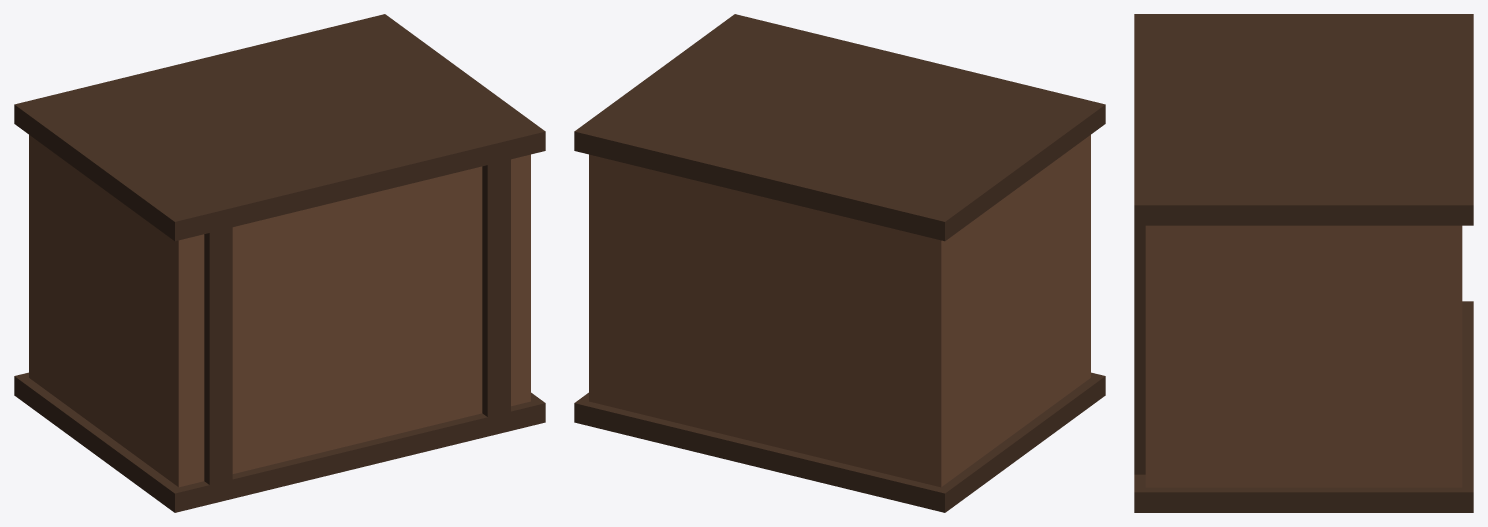
The model's file is prop_crate_1.glb.
The picture shows the model from 3 angles, left to right: view 1: azimuth 30°, elevation 25°; view 2: azimuth 150°, elevation 25°; view 3: azimuth 270°, elevation 25°; orthographic projection. The views are drawn at different scales.
Visible parts, largest first — view 1: PROP_Crate_1; view 2: PROP_Crate_1; view 3: PROP_Crate_1.
Boxes of the visible parts, x1=… form: PROP_Crate_1: x1=14, y1=14, x2=545, y2=512; PROP_Crate_1: x1=574, y1=14, x2=1105, y2=512; PROP_Crate_1: x1=1134, y1=14, x2=1473, y2=512.
Size of the model in its own units: 0.8 by 0.6 by 0.6.
